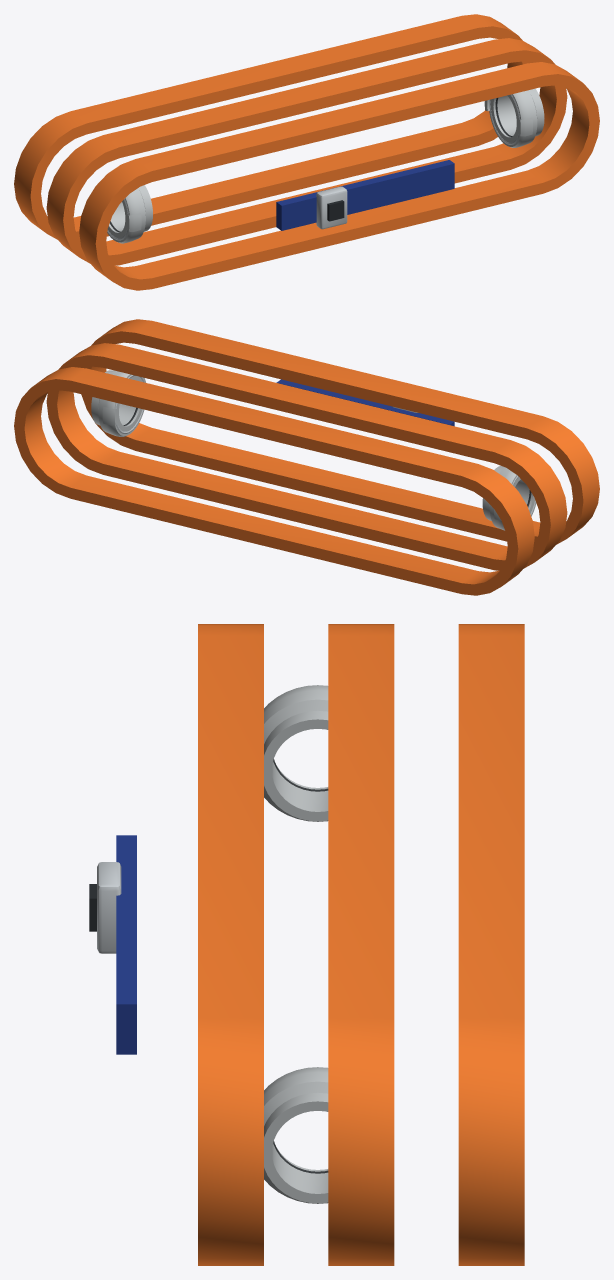
The model's file is orange_hose_bundle.glb.
The picture shows the model from 3 angles, top to bottom: view 1: azimuth 30°, elevation 25°; view 2: azimuth 150°, elevation 25°; view 3: azimuth 270°, elevation 25°; orthographic projection. The views are drawn at different scales.
Visible parts, largest first — view 1: orange_hose_bundle; view 2: orange_hose_bundle; view 3: orange_hose_bundle.
Part boxes in pixels (x1,y1,x2,y2): orange_hose_bundle: (14, 14, 599, 290); orange_hose_bundle: (14, 319, 599, 595); orange_hose_bundle: (89, 624, 524, 1265).
Size of the model in its own units: 1 by 0.2249 by 0.3756.
